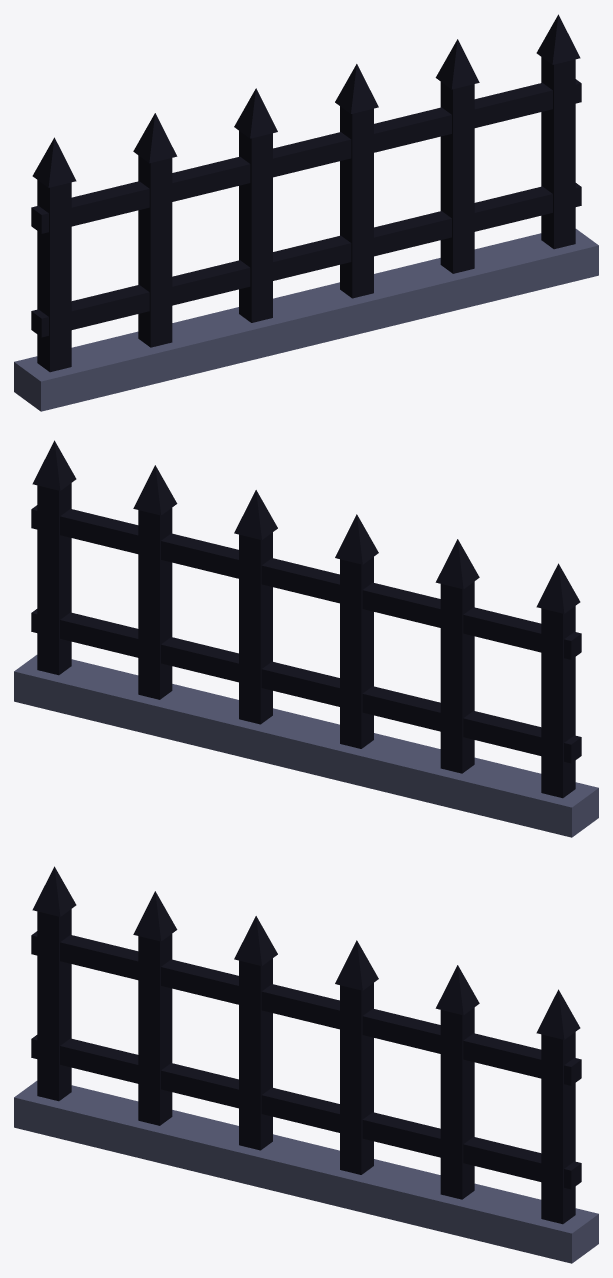
Rendered from fence.glb.
The picture shows the model from 3 angles, top to bottom: view 1: azimuth 30°, elevation 25°; view 2: azimuth 150°, elevation 25°; view 3: azimuth 330°, elevation 25°; orthographic projection.
Visible parts, largest first — view 1: Kerb, Rail2, Rail1, Bar1, Bar0, Bar5, Bar4, Bar2, Bar3, Tip0, Tip1, Tip5 (+3 smaller); view 2: Kerb, Rail2, Rail1, Bar1, Bar0, Bar5, Bar4, Bar2, Bar3, Tip0, Tip1, Tip5 (+3 smaller); view 3: Kerb, Rail2, Rail1, Bar4, Bar5, Bar0, Bar1, Bar3, Bar2, Tip5, Tip4, Tip0 (+3 smaller).
Part boxes in pixels (x1,y1,x2,y2): Kerb: (14, 229, 598, 411); Rail2: (31, 79, 581, 233); Rail1: (31, 183, 581, 337); Bar1: (138, 155, 172, 347); Bar0: (37, 180, 71, 372); Bar5: (541, 57, 575, 249); Bar4: (440, 82, 474, 273); Bar2: (239, 131, 272, 322); Bar3: (340, 106, 373, 298); Tip0: (32, 137, 76, 187); Tip1: (133, 113, 177, 163); Tip5: (536, 14, 580, 64); Kerb: (14, 655, 598, 837); Rail2: (31, 505, 581, 659); Rail1: (31, 609, 581, 763); Bar1: (440, 581, 474, 773); Bar0: (541, 606, 575, 798); Bar5: (37, 483, 71, 675); Bar4: (138, 508, 172, 699); Bar2: (340, 557, 373, 748); Bar3: (239, 532, 272, 724); Tip0: (536, 563, 580, 613); Tip1: (435, 539, 479, 589); Tip5: (32, 440, 76, 490); Kerb: (14, 1081, 598, 1263); Rail2: (31, 931, 581, 1085); Rail1: (31, 1035, 581, 1189); Bar4: (440, 1007, 474, 1199); Bar5: (541, 1032, 575, 1224); Bar0: (37, 909, 71, 1101); Bar1: (138, 934, 172, 1125); Bar3: (340, 983, 373, 1174); Bar2: (239, 958, 272, 1150); Tip5: (536, 989, 580, 1039); Tip4: (435, 965, 479, 1015); Tip0: (32, 866, 76, 916).
Size of the model in its own units: 3.1 by 1.37 by 0.26.
